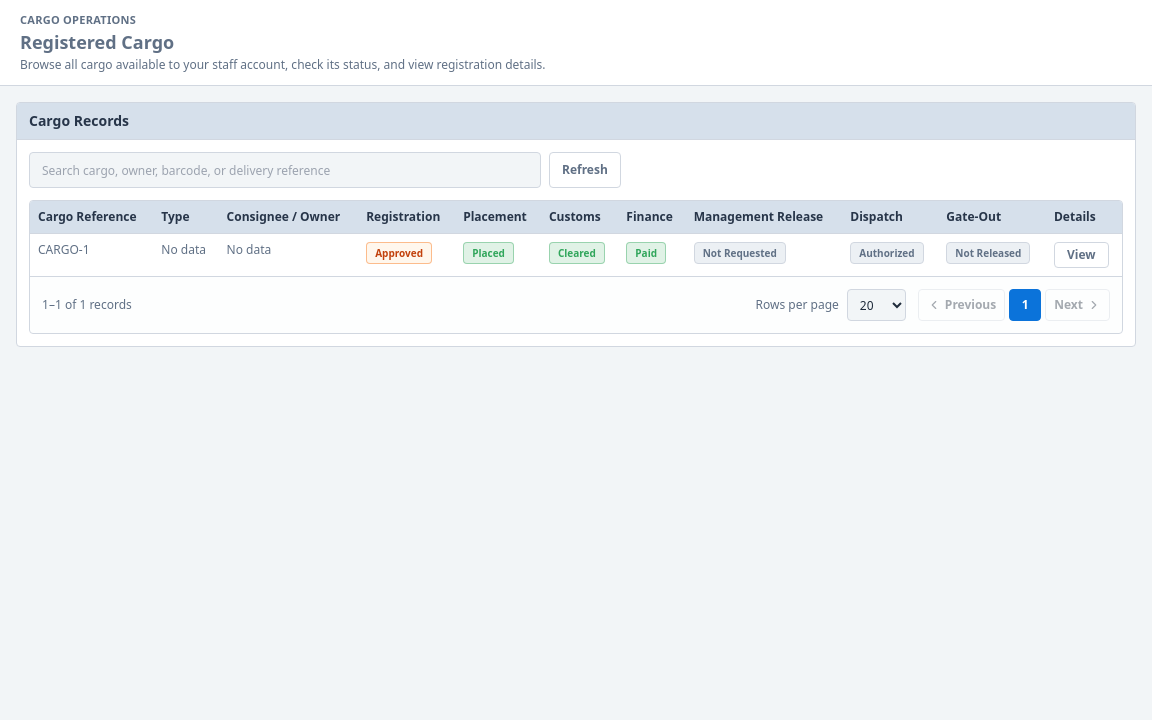
lists all status types and opens fresh cargo details in a closable popup
Click the button with aria-label "View CARGO-1": click(1081, 255) [1054,242,1109,268]
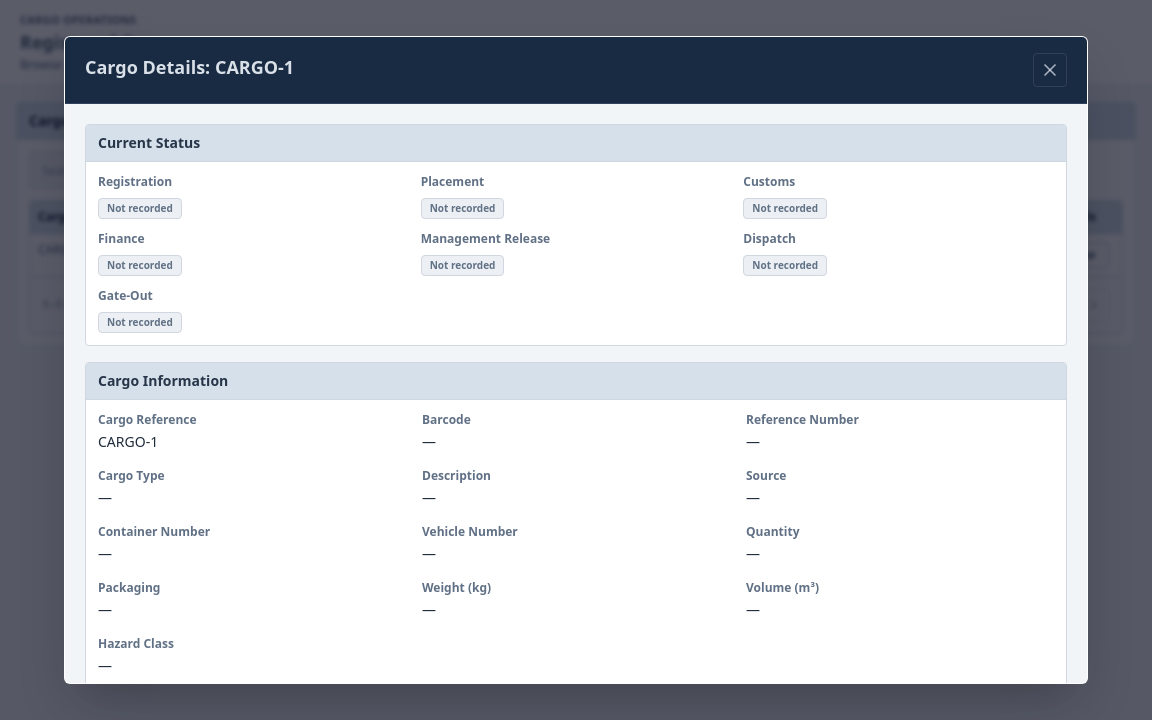
Click the button named "Close window": click(1050, 70) [1033,53,1067,87]
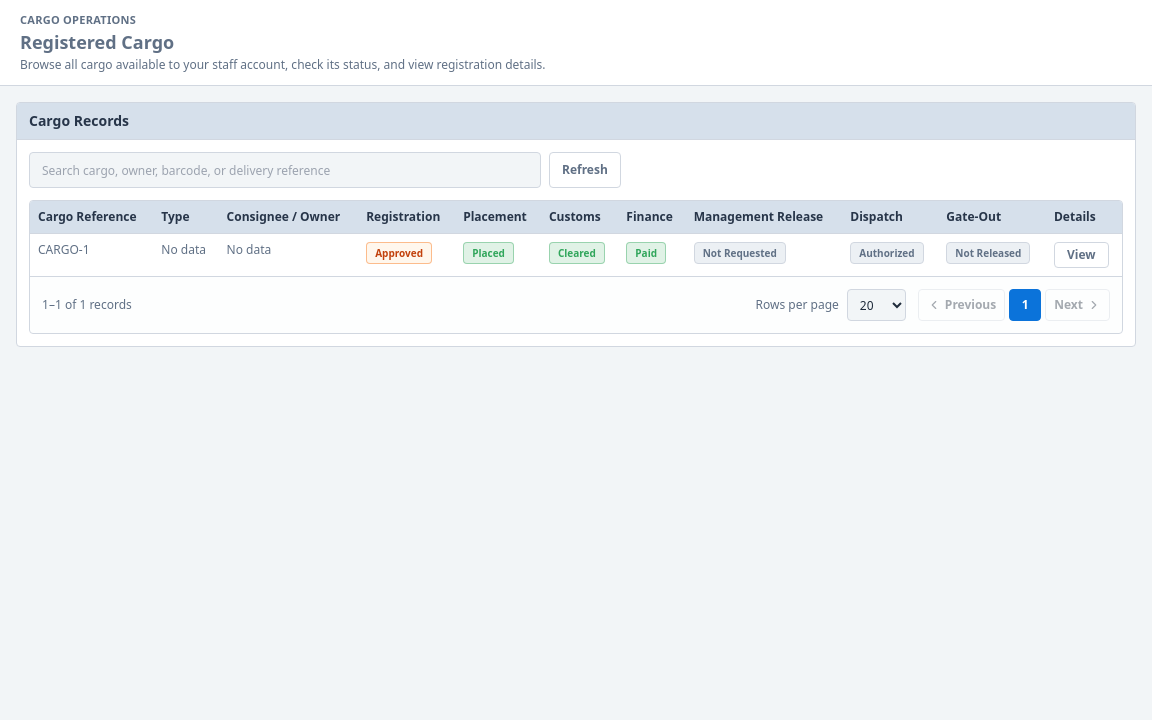
Check: the text "Approved" is shown, box [366,242,432,264]
Check: the dialog is gone
